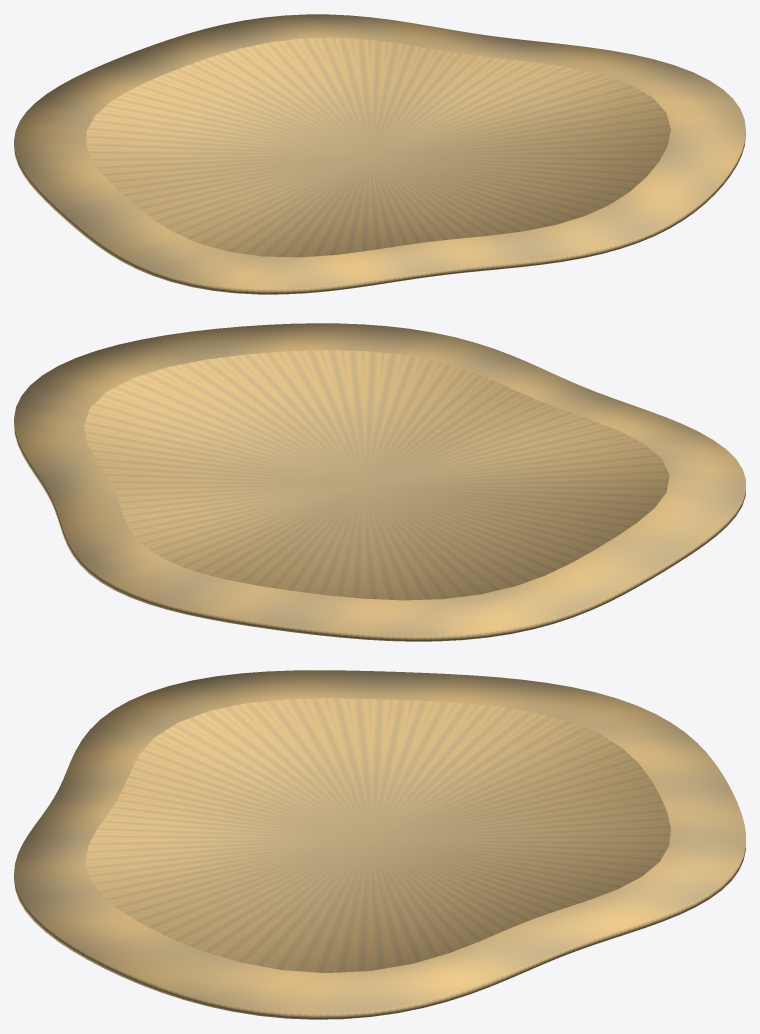
Rendered from ISL-L_LOD1_Beach.fbx.
3 renders of one model, top to bottom at view 1: azimuth 30°, elevation 25°; view 2: azimuth 150°, elevation 25°; view 3: azimuth 270°, elevation 25°, orthographic. The views are drawn at different scales.
Visible parts, largest first — view 1: ISL-L_LOD1_Beach; view 2: ISL-L_LOD1_Beach; view 3: ISL-L_LOD1_Beach.
Boxes of the visible parts, bbox=[...] form: ISL-L_LOD1_Beach: bbox=[14, 14, 745, 294]; ISL-L_LOD1_Beach: bbox=[14, 323, 745, 641]; ISL-L_LOD1_Beach: bbox=[14, 670, 745, 1019].
Bounding box in the file's own units: 188 × 170 × 2.7.
